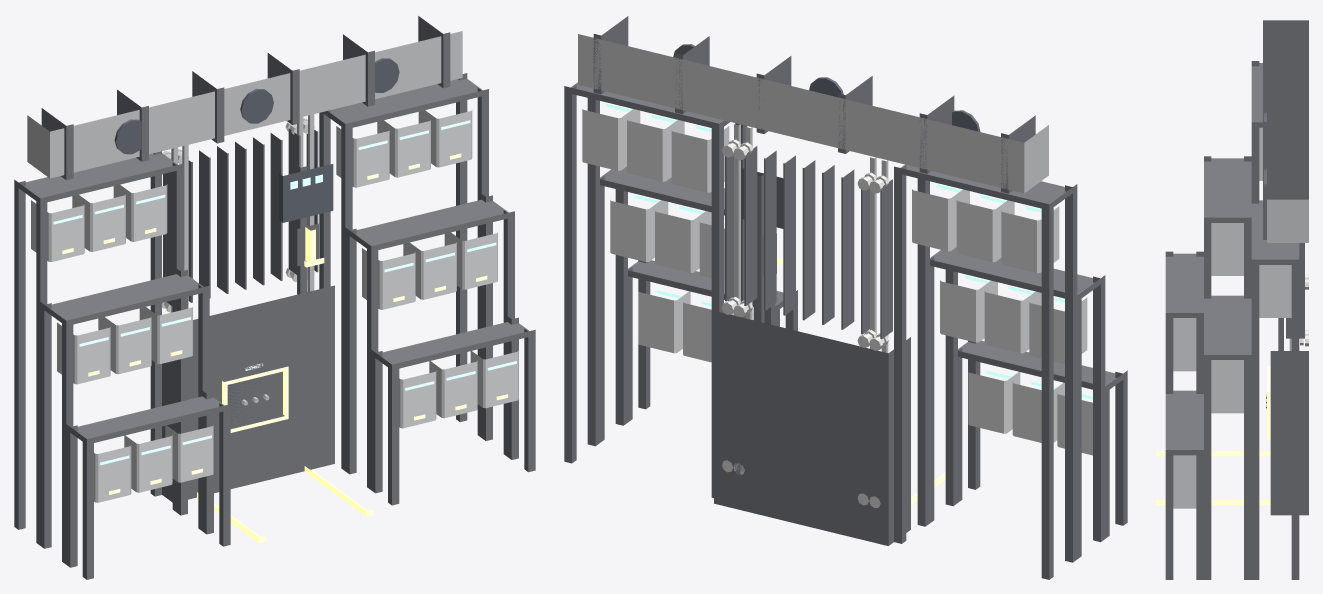
File: iter_04.glb
3 renders of one model, left to right at view 1: azimuth 30°, elevation 25°; view 2: azimuth 150°, elevation 25°; view 3: azimuth 270°, elevation 25°, orthographic. The views are drawn at different scales.
Parts seen in each view (by area): view 1: Bay_Back, Cooling_Duct, Terrace_Frame_L0, Terrace_Frame_L1, Terrace_Frame_R1, Heat_Sink_Fins, Terrace_Frame_R0, Terrace_Frame_L2, Terrace_Frame_R2, Cells_R0, Cells_L0, Cells_L1 (+11 smaller); view 2: Bay_Back, Cooling_Duct, Terrace_Frame_L0, Heat_Sink_Fins, Terrace_Frame_R0, Terrace_Frame_L1, Cells_L0, Cells_R0, Cells_L1, Terrace_Frame_L2, Terrace_Frame_R1, Cells_R1 (+10 smaller); view 3: Duct_Bands, Terrace_Frame_R0, Terrace_Frame_R1, Bay_Back, Terrace_Frame_R2, Terrace_Frame_L1, Terrace_Frame_L2, Cooling_Duct, Cells_R1, Cells_R0, Cells_L1, Terrace_Frame_L0 (+6 smaller).
Boxes of the visible parts, bbox=[...] form: Bay_Back: bbox=[162, 285, 334, 502]; Cooling_Duct: bbox=[27, 31, 462, 178]; Terrace_Frame_L0: bbox=[14, 151, 183, 545]; Terrace_Frame_L1: bbox=[40, 269, 209, 564]; Terrace_Frame_R1: bbox=[345, 194, 514, 489]; Heat_Sink_Fins: bbox=[163, 128, 318, 306]; Terrace_Frame_R0: bbox=[319, 73, 488, 470]; Terrace_Frame_L2: bbox=[66, 391, 230, 579]; Terrace_Frame_R2: bbox=[371, 316, 535, 505]; Cells_R0: bbox=[336, 110, 472, 187]; Cells_L0: bbox=[31, 184, 167, 261]; Cells_L1: bbox=[57, 307, 192, 384]; Bay_Back: bbox=[714, 311, 910, 545]; Cooling_Duct: bbox=[578, 34, 1048, 193]; Terrace_Frame_L0: bbox=[894, 164, 1077, 579]; Heat_Sink_Fins: bbox=[725, 146, 892, 339]; Terrace_Frame_R0: bbox=[564, 82, 747, 497]; Terrace_Frame_L1: bbox=[930, 247, 1105, 558]; Cells_L0: bbox=[912, 189, 1059, 273]; Cells_R0: bbox=[582, 109, 729, 192]; Cells_L1: bbox=[940, 280, 1087, 364]; Terrace_Frame_L2: bbox=[958, 340, 1127, 538]; Terrace_Frame_R1: bbox=[600, 166, 775, 442]; Cells_R1: bbox=[610, 200, 724, 281]; Duct_Bands: bbox=[1263, 20, 1308, 239]; Terrace_Frame_R0: bbox=[1251, 198, 1299, 579]; Terrace_Frame_R1: bbox=[1204, 293, 1251, 579]; Bay_Back: bbox=[1270, 351, 1308, 515]; Terrace_Frame_R2: bbox=[1165, 388, 1203, 579]; Terrace_Frame_L1: bbox=[1204, 156, 1251, 293]; Terrace_Frame_L2: bbox=[1165, 251, 1203, 388]; Cooling_Duct: bbox=[1267, 199, 1308, 242]; Cells_R1: bbox=[1211, 360, 1243, 413]; Cells_R0: bbox=[1259, 265, 1291, 317]; Cells_L1: bbox=[1211, 223, 1243, 275]; Terrace_Frame_L0: bbox=[1251, 61, 1262, 198].
Size of the model in its own units: 2.5 by 2.17 by 0.8.
